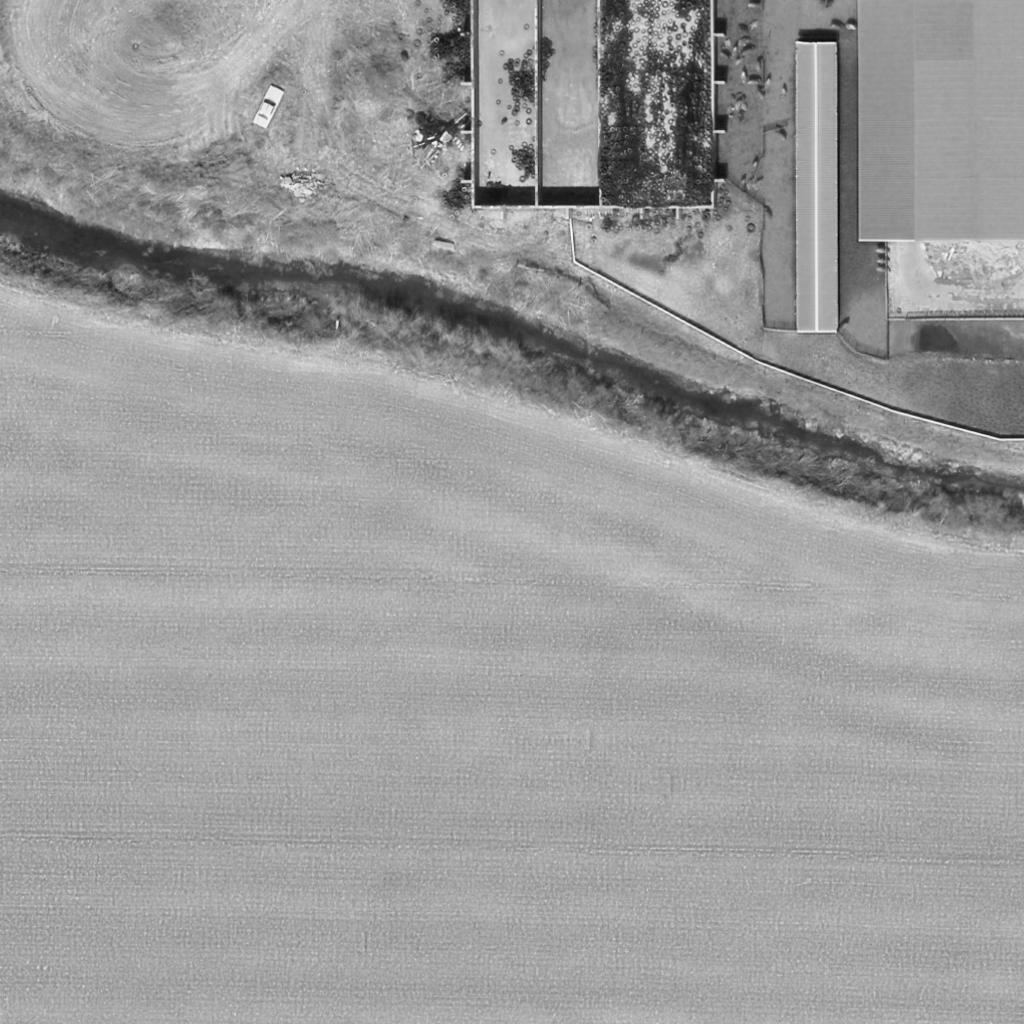vehicle: (254, 85, 286, 131)
